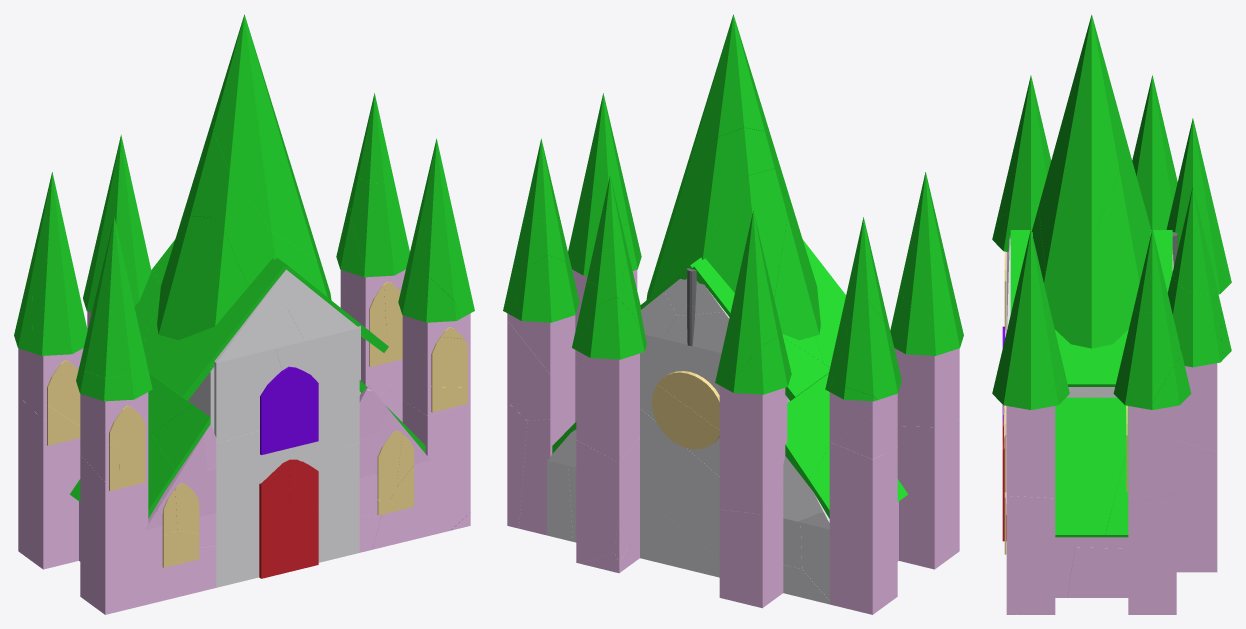
Rendered from Church_Gothic_Broken.fbx.
The picture shows the model from 3 angles, left to right: view 1: azimuth 30°, elevation 25°; view 2: azimuth 150°, elevation 25°; view 3: azimuth 270°, elevation 25°; orthographic projection. The views are drawn at different scales.
Visible parts, largest first — view 1: Church_Gothic.003_cell.001, Church_Gothic.089_cell, Church_Gothic.073_cell.002, Church_Gothic.090_cell.001, Church_Gothic.003_cell.002, Church_Gothic.003_cell, Church_Gothic.006_cell.001, Church_Gothic.083_cell.001, Church_Gothic.073_cell.003, Church_Gothic.005_cell.003, Church_Gothic.004_cell.003, Church_Gothic.078_cell (+55 smaller); view 2: Church_Gothic.090_cell.001, Church_Gothic.003_cell, Church_Gothic.089_cell, Church_Gothic_cell, Church_Gothic.076_cell.003, Church_Gothic.098_cell.002, Church_Gothic_cell.001, Church_Gothic.098_cell.003, Church_Gothic.003_cell.003, Church_Gothic.097_cell.001, Church_Gothic.009_cell.001, Church_Gothic.003_cell.001 (+39 smaller); view 3: Church_Gothic.003_cell, Church_Gothic.003_cell.001, Church_Gothic.091_cell, Church_Gothic.004_cell.003, Church_Gothic.083_cell.001, Church_Gothic.097_cell.003, Church_Gothic.098_cell.002, Church_Gothic.007_cell.003, Church_Gothic.083_cell.002, Church_Gothic.097_cell.001, Church_Gothic.006_cell.001, Church_Gothic.005_cell.003 (+14 smaller).
Boxes of the visible parts, <box> form: Church_Gothic.003_cell.001: <box>213,14,316,259</box>; Church_Gothic.089_cell: <box>80,455,148,614</box>; Church_Gothic.073_cell.002: <box>216,430,346,587</box>; Church_Gothic.090_cell.001: <box>18,396,80,569</box>; Church_Gothic.003_cell.002: <box>157,216,247,340</box>; Church_Gothic.003_cell: <box>201,114,331,300</box>; Church_Gothic.006_cell.001: <box>32,172,87,355</box>; Church_Gothic.083_cell.001: <box>402,400,470,535</box>; Church_Gothic.073_cell.003: <box>276,328,359,447</box>; Church_Gothic.005_cell.003: <box>83,217,144,378</box>; Church_Gothic.004_cell.003: <box>408,138,474,318</box>; Church_Gothic.078_cell: <box>144,266,288,400</box>; Church_Gothic.090_cell.001: <box>829,442,897,614</box>; Church_Gothic.003_cell: <box>646,127,791,300</box>; Church_Gothic.089_cell: <box>897,419,959,569</box>; Church_Gothic_cell: <box>719,388,787,514</box>; Church_Gothic.076_cell.003: <box>640,408,719,560</box>; Church_Gothic.098_cell.002: <box>576,437,639,563</box>; Church_Gothic_cell.001: <box>719,479,783,608</box>; Church_Gothic.098_cell.003: <box>576,350,639,462</box>; Church_Gothic.003_cell.003: <box>701,168,787,298</box>; Church_Gothic.097_cell.001: <box>507,315,575,424</box>; Church_Gothic.009_cell.001: <box>715,210,785,389</box>; Church_Gothic.003_cell.001: <box>675,14,775,201</box>; Church_Gothic.003_cell: <box>1031,124,1150,348</box>; Church_Gothic.003_cell.001: <box>1038,14,1121,272</box>; Church_Gothic.091_cell: <box>1055,397,1128,537</box>; Church_Gothic.004_cell.003: <box>994,229,1064,409</box>; Church_Gothic.083_cell.001: <box>1006,496,1055,614</box>; Church_Gothic.097_cell.003: <box>1128,494,1176,614</box>; Church_Gothic.098_cell.002: <box>1176,441,1217,572</box>; Church_Gothic.007_cell.003: <box>1113,303,1179,409</box>; Church_Gothic.083_cell.002: <box>1006,406,1055,498</box>; Church_Gothic.097_cell.001: <box>1128,406,1176,504</box>; Church_Gothic.006_cell.001: <box>1132,75,1175,229</box>; Church_Gothic.005_cell.003: <box>997,75,1051,217</box>.
Bounding box in the file's own units: 10.92 × 14 × 5.92.
